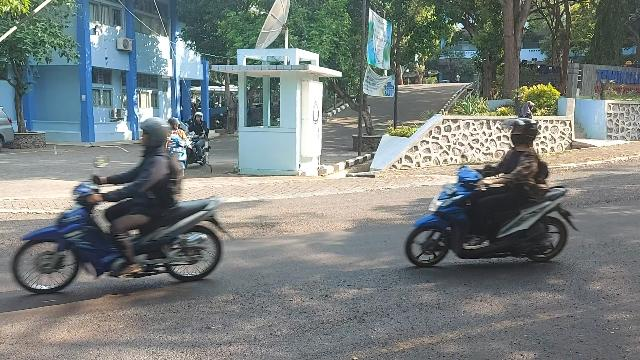helm: (503, 119, 538, 145), (141, 118, 170, 148)
motor: (14, 178, 236, 297), (406, 155, 581, 269)
